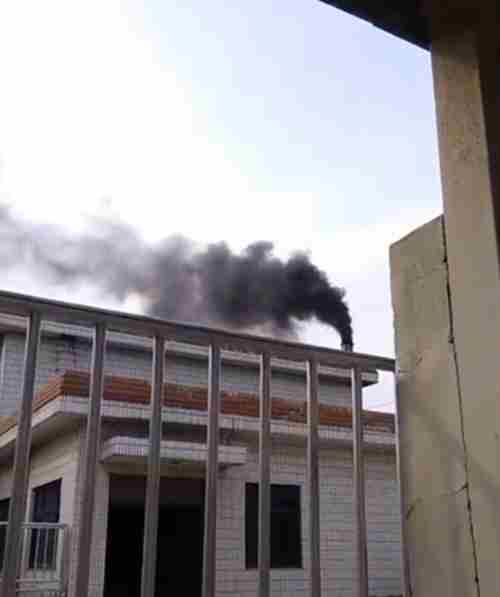dust: (180, 235, 367, 353)
